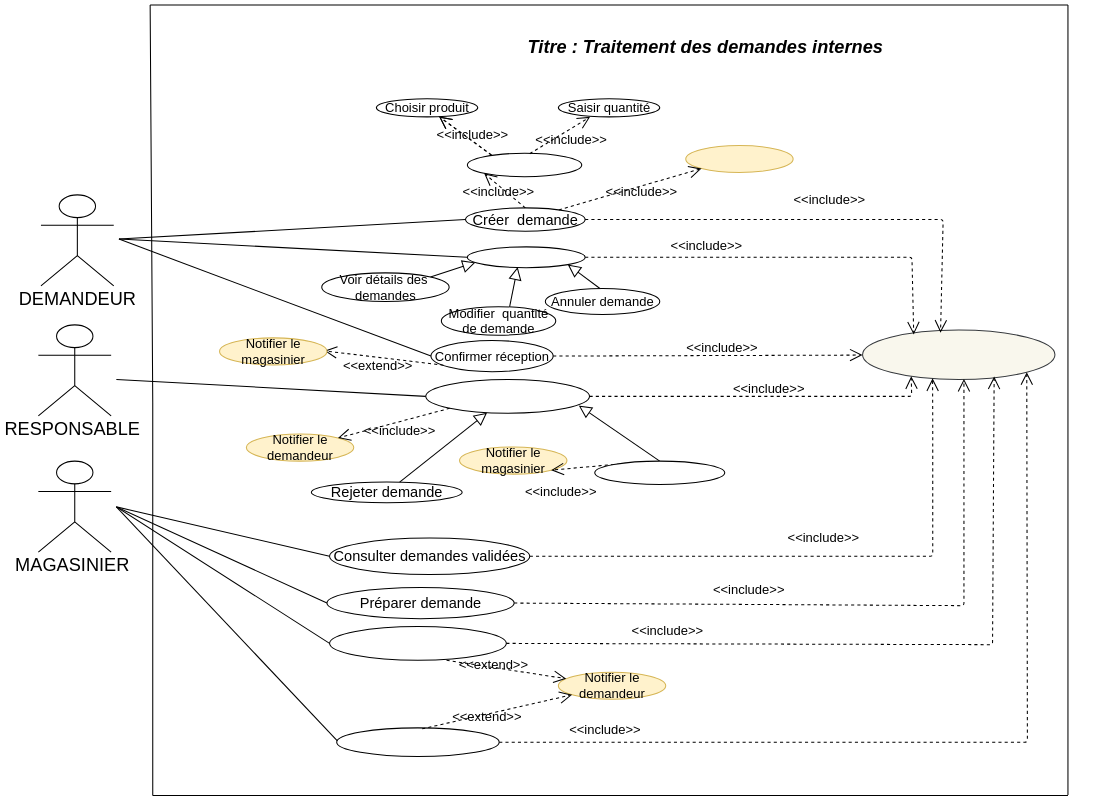
Image size: 1109x801. Some labels were removed from this diagram. The centre of each missing label's shape, as x and y in pixels:
"Gérer demandes" goes at (526,257).
"Marquer prête au retrait" goes at (418,643).
"Notifier le responsable" goes at (739,159).
"Remplir formulaire" goes at (524,165).
"S'AUTHENTIFIER" goes at (958,354).
"Servir demande" goes at (418,742).
"Traiter demande" goes at (507,396).
"Valider demande" goes at (659,472).
